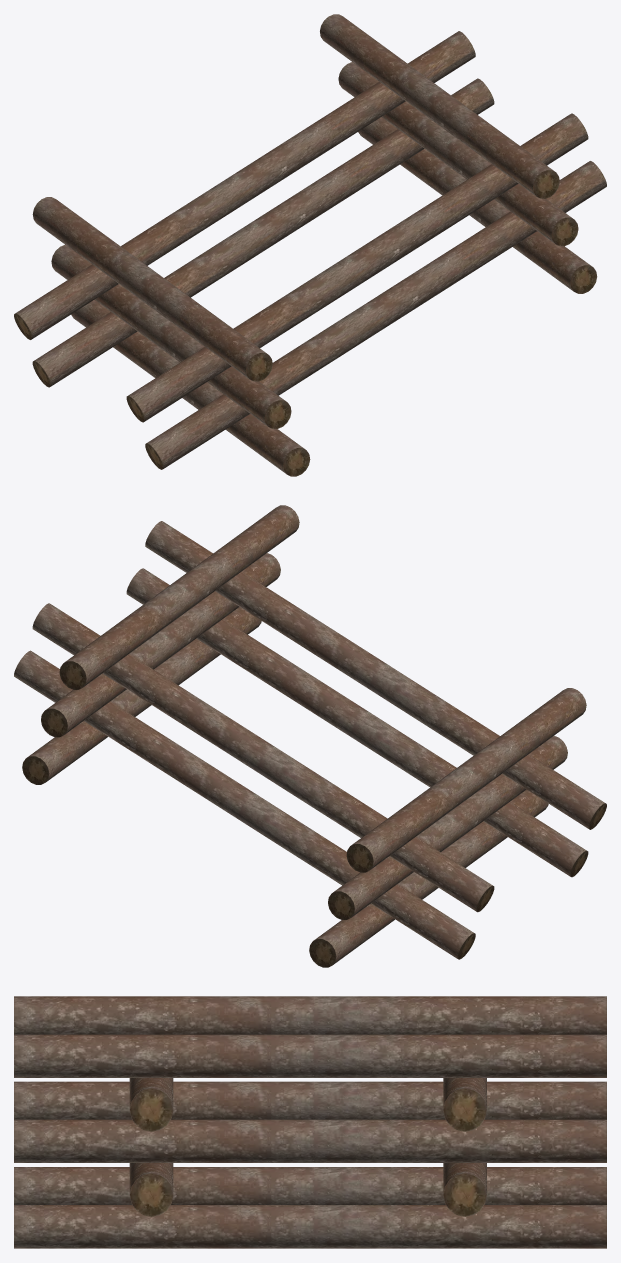
Rendered from well_wood.glb.
3 renders of one model, top to bottom at view 1: azimuth 30°, elevation 25°; view 2: azimuth 150°, elevation 25°; view 3: azimuth 270°, elevation 25°, orthographic. The views are drawn at different scales.
Visible parts, largest first — view 1: well_wood; view 2: well_wood; view 3: well_wood.
Part boxes in pixels (x1,y1,x2,y2): well_wood: [14, 14, 606, 476]; well_wood: [14, 505, 606, 967]; well_wood: [14, 996, 606, 1248].
Size of the model in its own units: 2.18 by 1.11 by 1.7.
1 material, 1 textured.
